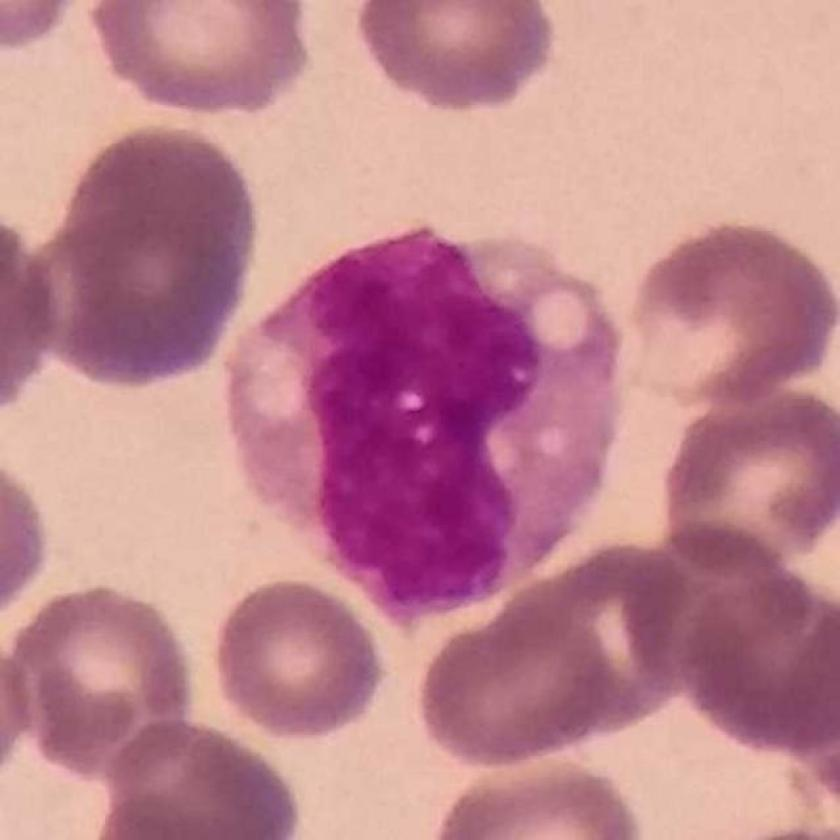monocyte: (227, 219, 631, 630)
